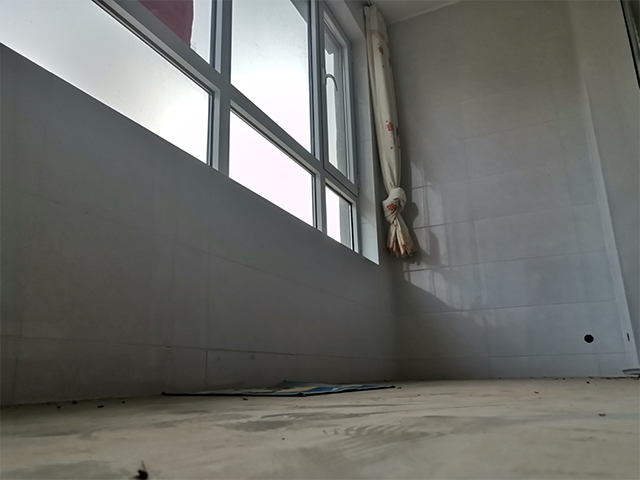carpet: (159, 377, 398, 398)
